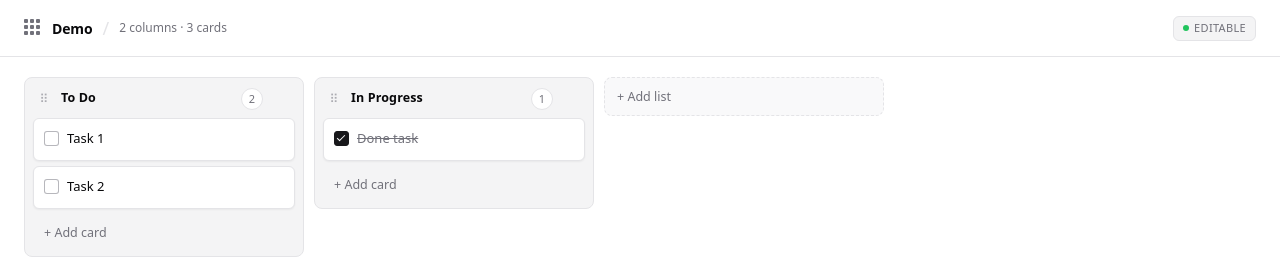
Test case: Board live sync › no flicker: a 2nd edit queued during a save does not blink off, while a concurrent remote column heals in
This screenshot has width=1280, height=274.
# toggle Task 1 → flush POST OK → commitBaseline awaits the held vid.
Click the 1st checkbox: coordinates (52, 138) 44,131 -> 59,146
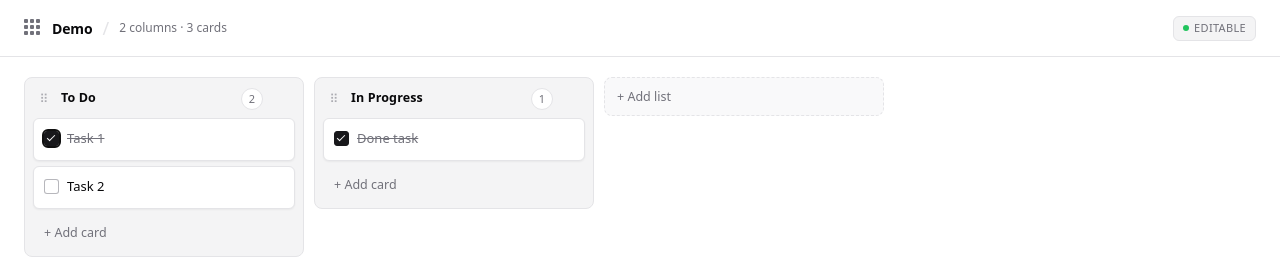
# toggle Task 2 DURING the in-flight window → pendingRef set, Task 2 now ✓.
Click the 3rd checkbox: coordinates (52, 186) 44,179 -> 59,194
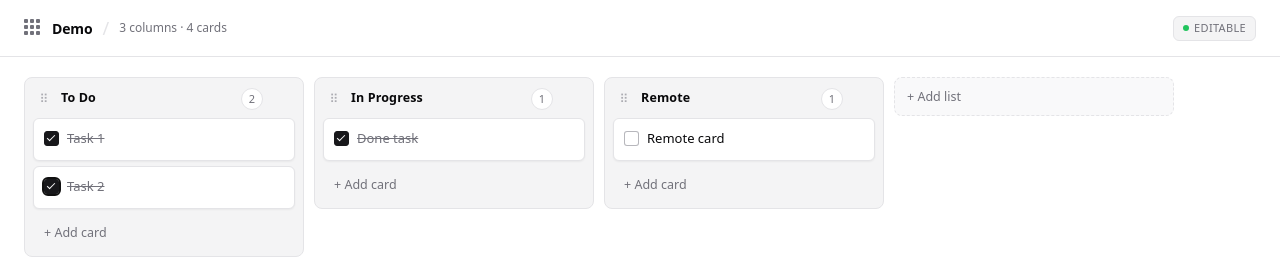
Result: the 4th checkbox is checked at 44,179 -> 59,194
Result: the button "Remote" is shown at 641,89 -> 690,106
